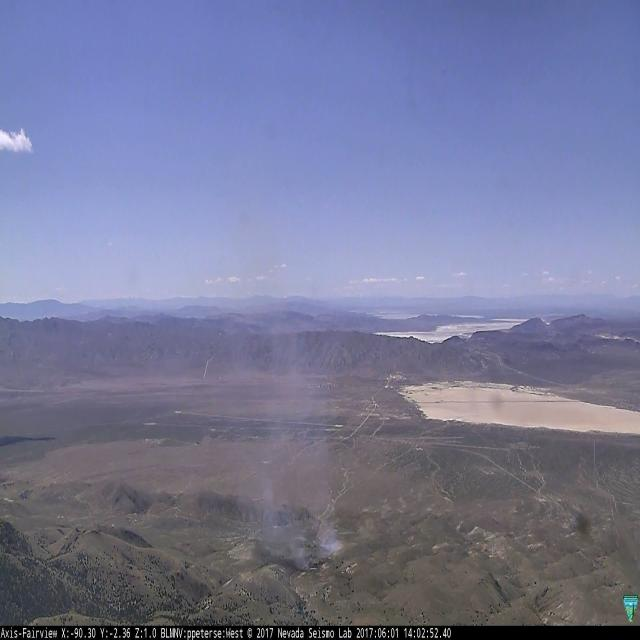smoke: (261, 332, 342, 574)
